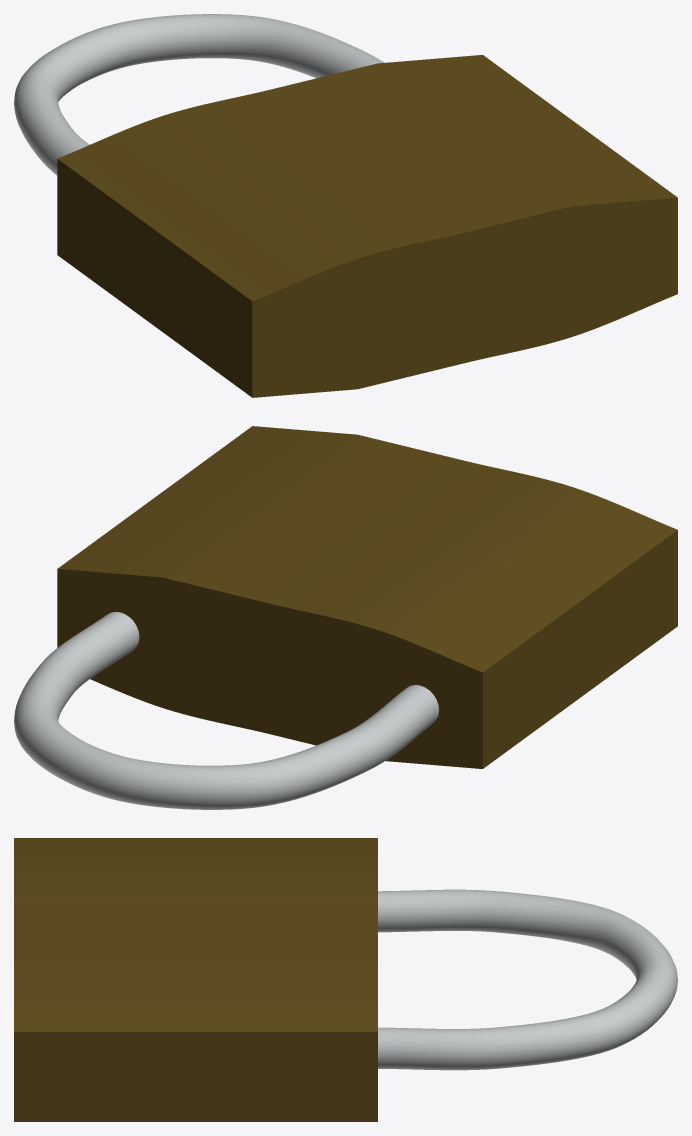
The model's file is padlock__c9f0cf0cbbe6.glb.
3 views of the same model, one above another, from view 1: azimuth 30°, elevation 25°; view 2: azimuth 150°, elevation 25°; view 3: azimuth 270°, elevation 25° (orthographic). The views are drawn at different scales.
Parts seen in each view (by area): view 1: body, loop; view 2: body, loop; view 3: body, loop.
Boxes of the visible parts, x1,y1,x2,y2 form: body: (57,55,677,397); loop: (14,14,384,175); body: (57,426,677,768); loop: (14,612,438,809); body: (14,838,377,1121); loop: (378,889,677,1070).
Bounding box in the file's own units: 0.0554 × 0.0166 × 0.0803.
